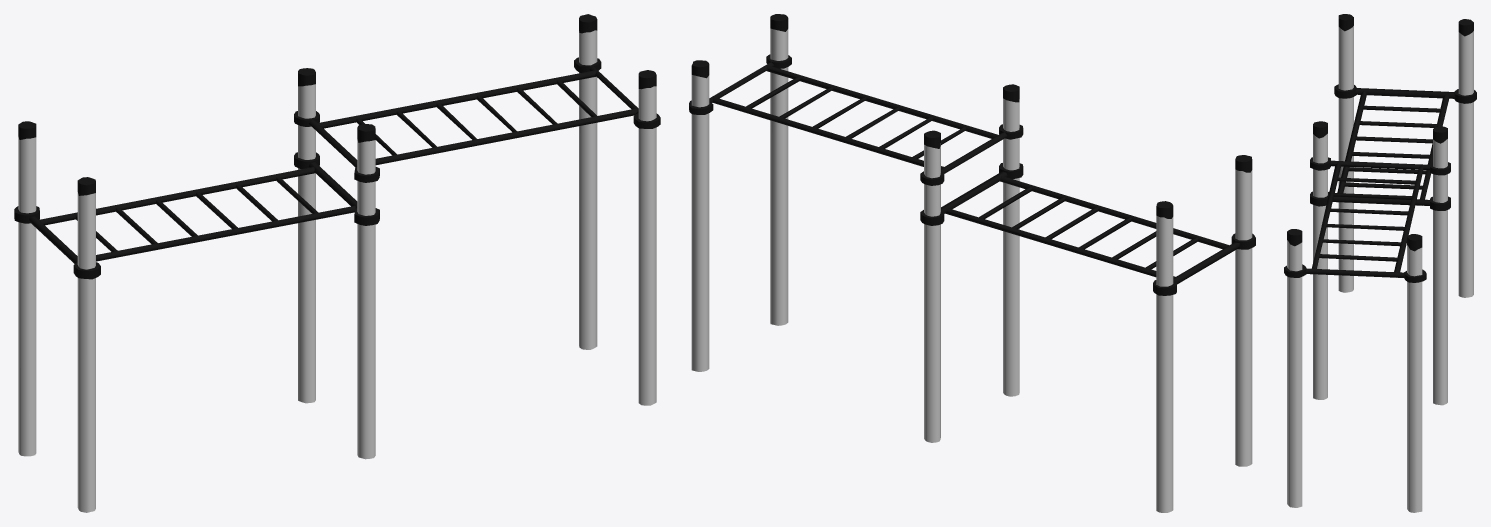
File: турник9.glb
The picture shows the model from 3 angles, left to right: view 1: azimuth 30°, elevation 25°; view 2: azimuth 150°, elevation 25°; view 3: azimuth 270°, elevation 25°; orthographic projection. The views are drawn at different scales.
Visible parts, largest first — view 1: SM_77_08_0015001_24789_Flora.002; view 2: SM_77_08_0015001_24789_Flora.002; view 3: SM_77_08_0015001_24789_Flora.002.
Boxes of the visible parts, <box> form: SM_77_08_0015001_24789_Flora.002: <box>14,14,660,512</box>; SM_77_08_0015001_24789_Flora.002: <box>689,14,1255,512</box>; SM_77_08_0015001_24789_Flora.002: <box>1284,14,1476,512</box>.
Bounding box in the file's own units: 4.06 × 2.25 × 1.45.
Materials: 1 (1 with a texture image).
